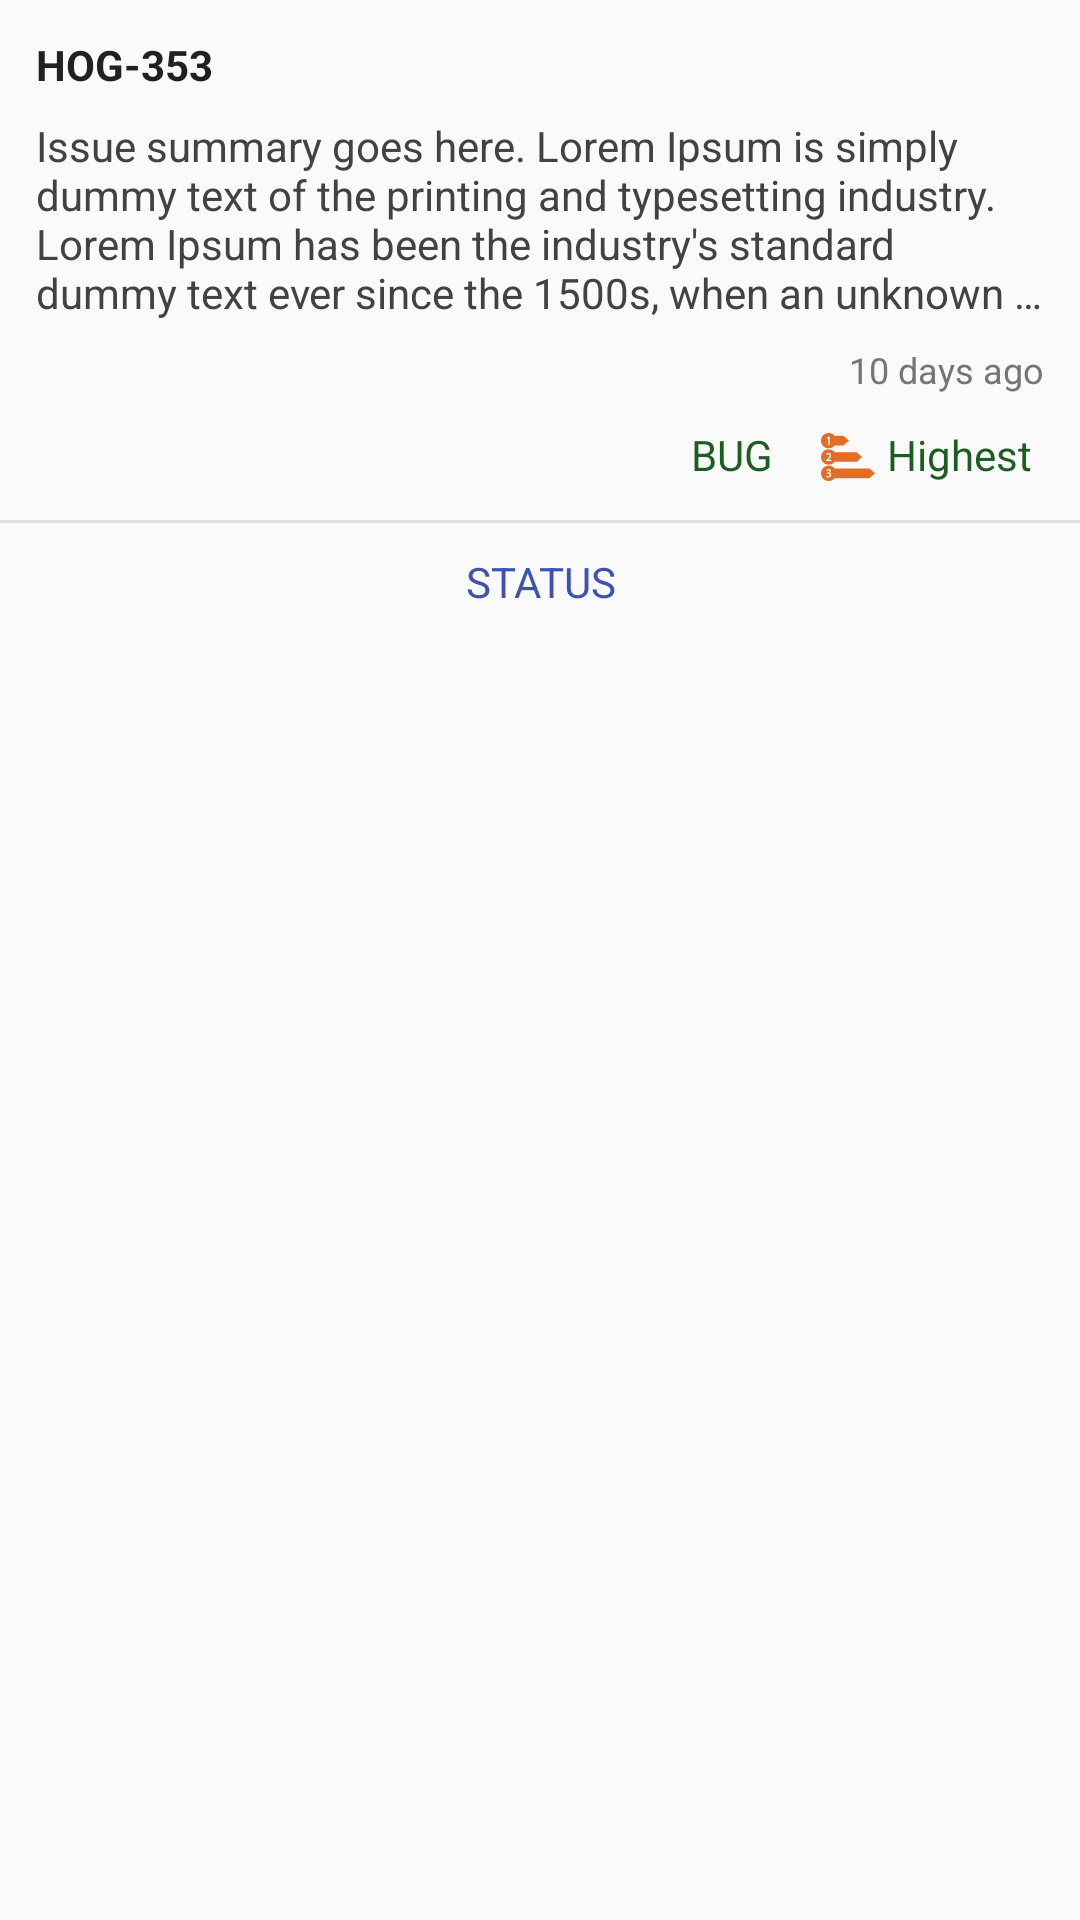

Where icons sit on this 1080 × 1920 app screen, as (x1, y1, x2, y2):
issue priority: (821, 433, 875, 481)
